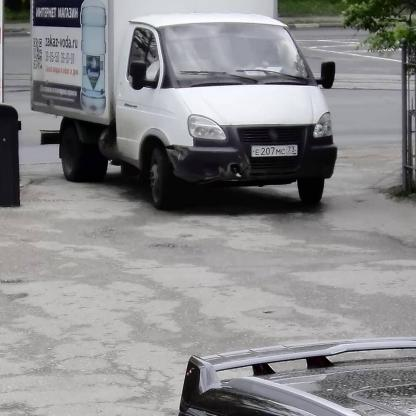plate: (252, 144, 298, 157)
